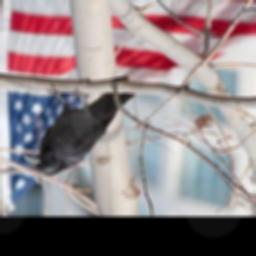Crow: (24, 81, 139, 178)
